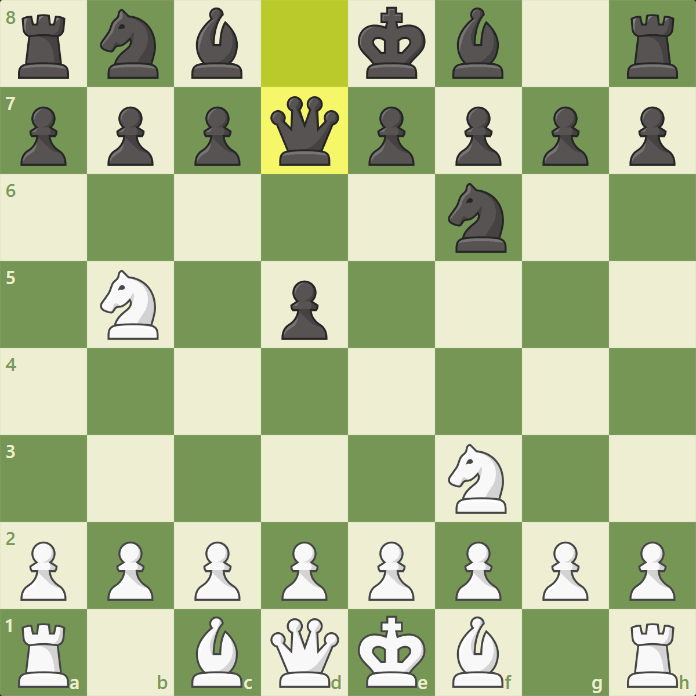B: (443, 613, 506, 693), (186, 613, 246, 692)
K: (357, 613, 427, 691)
N: (96, 267, 163, 344), (443, 440, 510, 517)
P: (16, 538, 69, 605), (104, 537, 157, 604), (189, 538, 242, 605), (277, 538, 330, 605), (364, 537, 417, 604), (451, 538, 504, 605), (537, 539, 590, 606), (624, 537, 677, 604)
Q: (268, 613, 341, 691)
R: (14, 620, 71, 692), (625, 621, 680, 692)
b: (447, 4, 509, 83), (186, 4, 245, 83)
k: (353, 3, 430, 82)
n: (95, 7, 162, 83), (446, 181, 510, 259)
p: (278, 276, 330, 343), (364, 102, 416, 169), (451, 102, 503, 169), (538, 102, 590, 169), (626, 102, 678, 169), (190, 103, 242, 170), (103, 101, 155, 168), (16, 102, 68, 169)
r: (13, 10, 74, 83), (623, 10, 682, 83)
